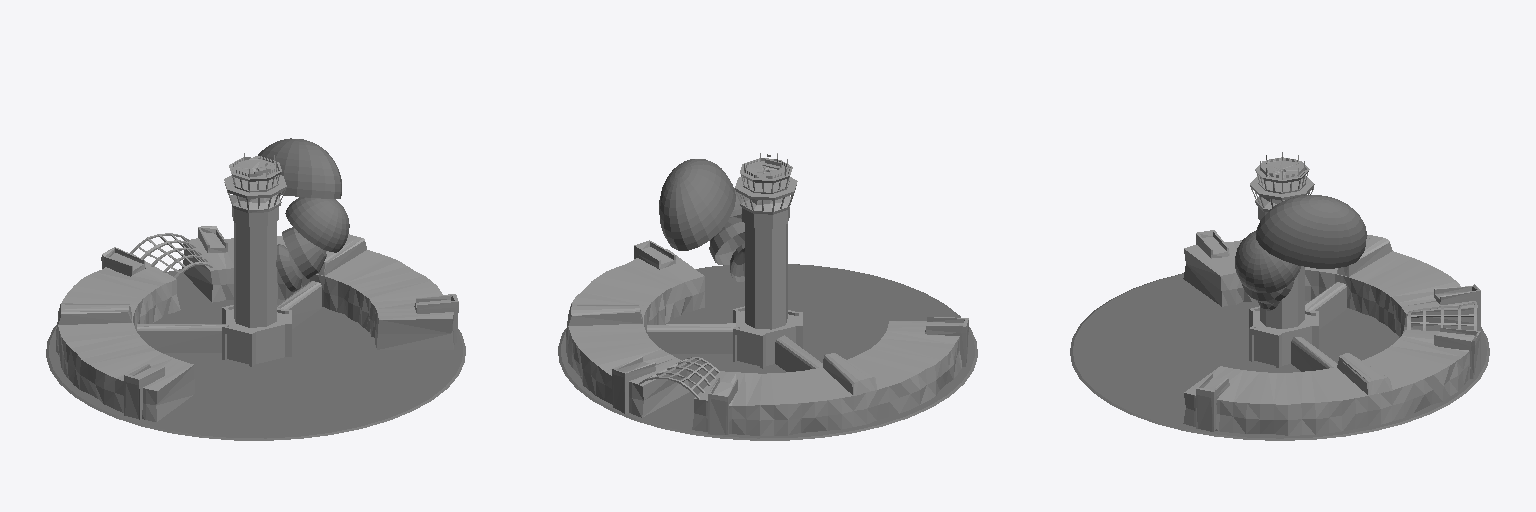
The model's file is DAP01Low.obj.
3 renders of one model, left to right at view 1: azimuth 30°, elevation 25°; view 2: azimuth 150°, elevation 25°; view 3: azimuth 270°, elevation 25°, orthographic.
Visible parts, largest first — view 1: ShadowCopy:ShadowCopy:Group65225, pCylinder3, pSphere5; view 2: ShadowCopy:ShadowCopy:Group65225, pCylinder3, pSphere5; view 3: ShadowCopy:ShadowCopy:Group65225, pCylinder3, pSphere5.
Part boxes in pixels (bbox=[...]): ShadowCopy:ShadowCopy:Group65225: bbox=[56, 153, 458, 421]; pCylinder3: bbox=[46, 269, 465, 440]; pSphere5: bbox=[258, 138, 349, 291]; ShadowCopy:ShadowCopy:Group65225: bbox=[566, 153, 968, 435]; pCylinder3: bbox=[558, 264, 977, 440]; pSphere5: bbox=[659, 159, 744, 281]; ShadowCopy:ShadowCopy:Group65225: bbox=[1183, 152, 1480, 435]; pCylinder3: bbox=[1070, 273, 1489, 440]; pSphere5: bbox=[1235, 195, 1366, 310].
Bounding box in the file's own units: 65.21 × 32.92 × 65.21.